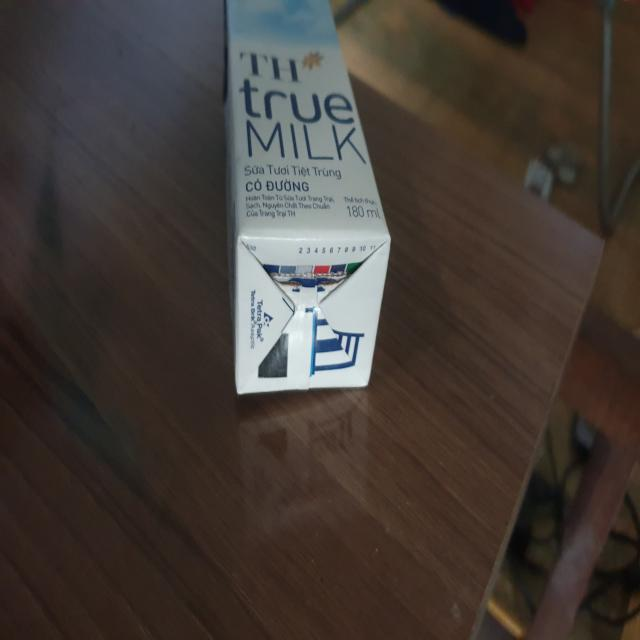TH: (222, 1, 392, 393)
